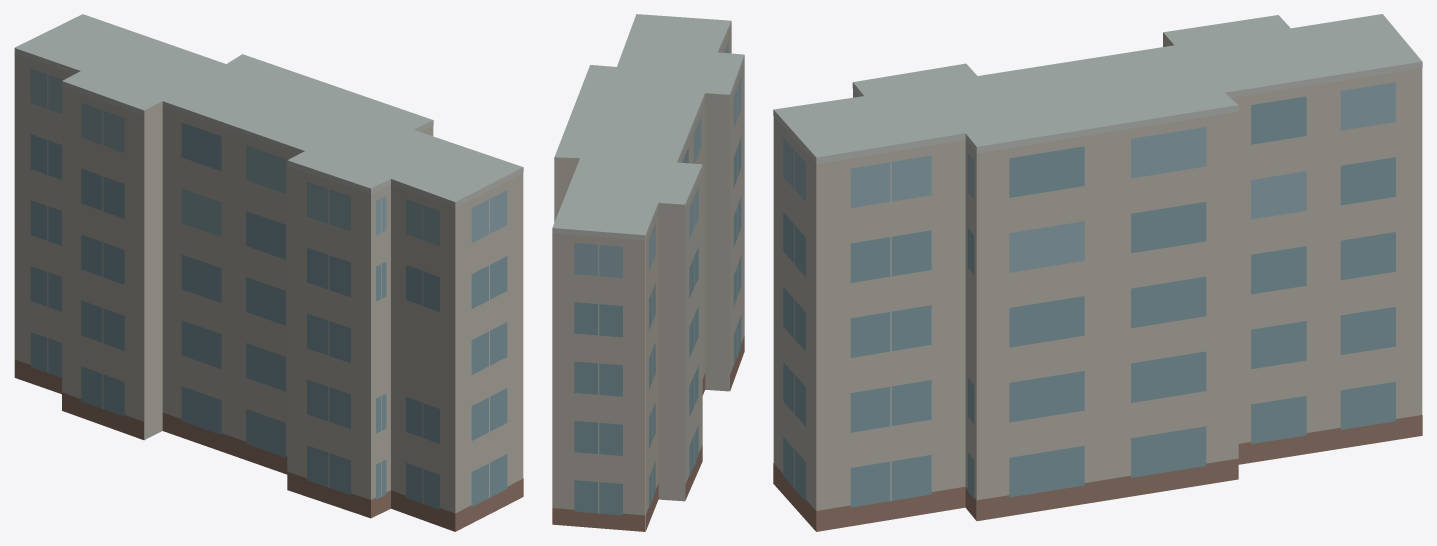
The model's file is survey-upis-32616615.glb.
3 views of the same model, side by side, from view 1: azimuth 30°, elevation 25°; view 2: azimuth 150°, elevation 25°; view 3: azimuth 270°, elevation 25° (orthographic). The views are drawn at different scales.
Visible parts, largest first — view 1: survey-upis-32616615.tmp; view 2: survey-upis-32616615.tmp; view 3: survey-upis-32616615.tmp.
Part boxes in pixels (<box>): survey-upis-32616615.tmp: <box>14,14,523,531</box>; survey-upis-32616615.tmp: <box>552,14,744,531</box>; survey-upis-32616615.tmp: <box>773,14,1422,531</box>.
Bounding box in the file's own units: 11.78 × 14.3 × 22.48.
